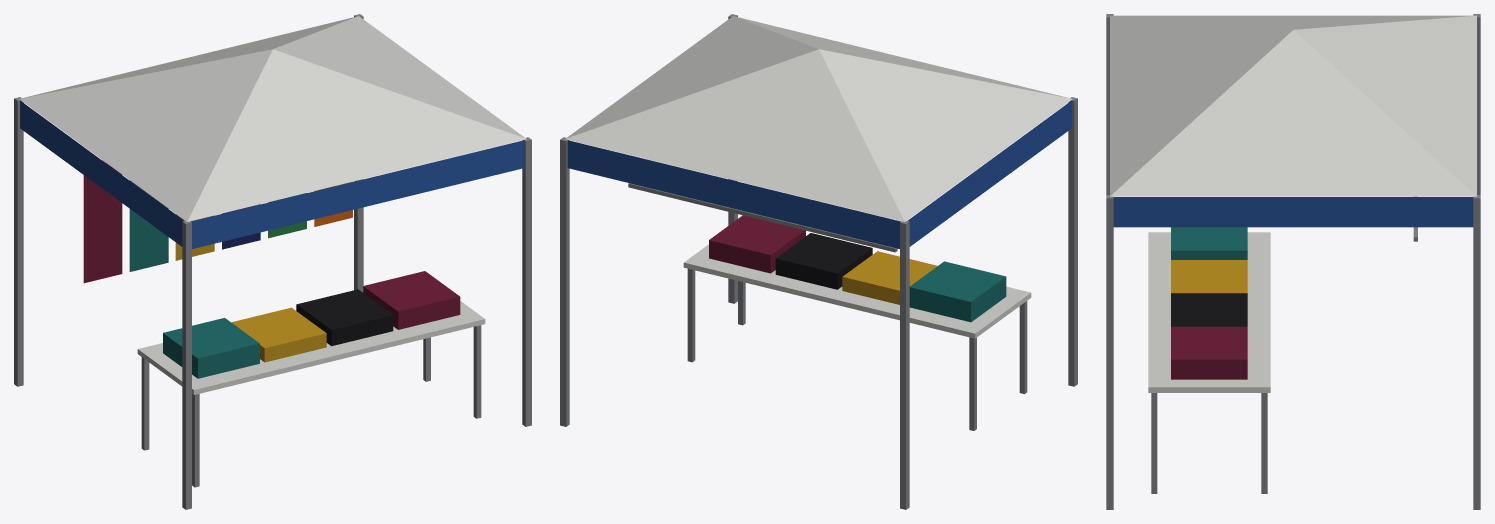
File: prop_gazebo-stall.e8eb1663d4fd.glb
3 renders of one model, left to right at view 1: azimuth 30°, elevation 25°; view 2: azimuth 150°, elevation 25°; view 3: azimuth 270°, elevation 25°, orthographic. The views are drawn at different scales.
Parts seen in each view (by area): view 1: body; view 2: body; view 3: body.
Part boxes in pixels (x1=…): body: x1=14, y1=14, x2=531, y2=509; body: x1=560, y1=14, x2=1077, y2=509; body: x1=1106, y1=14, x2=1480, y2=509.
Bounding box in the file's own units: 2.85 × 2.8 × 2.45.
